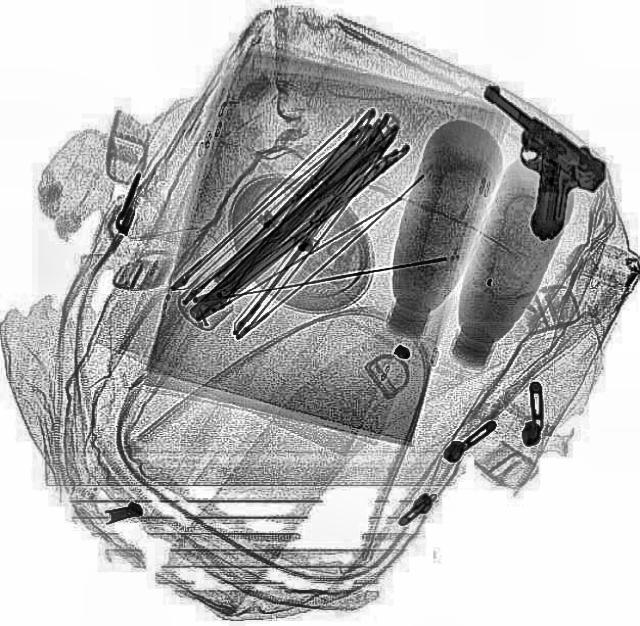Gun: (423, 79, 614, 243)
